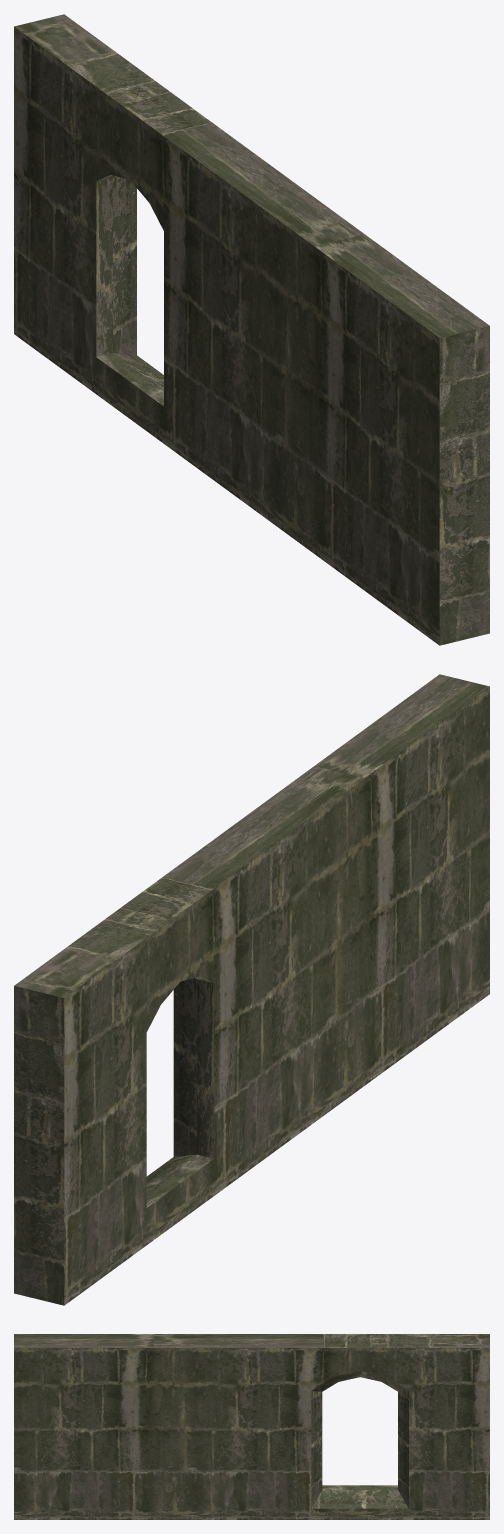
File: HorizontalHalfWall_Window_R.fbx
The picture shows the model from 3 angles, top to bottom: view 1: azimuth 30°, elevation 25°; view 2: azimuth 150°, elevation 25°; view 3: azimuth 270°, elevation 25°; orthographic projection. The views are drawn at different scales.
Parts seen in each view (by area): view 1: HorizontalHalfWall_Window_R; view 2: HorizontalHalfWall_Window_R; view 3: HorizontalHalfWall_Window_R.
Part boxes in pixels (x1,y1,x2,y2): HorizontalHalfWall_Window_R: [14, 14, 489, 645]; HorizontalHalfWall_Window_R: [14, 674, 489, 1305]; HorizontalHalfWall_Window_R: [14, 1334, 489, 1519].
Size of the model in its own units: 51 by 298 by 748.
